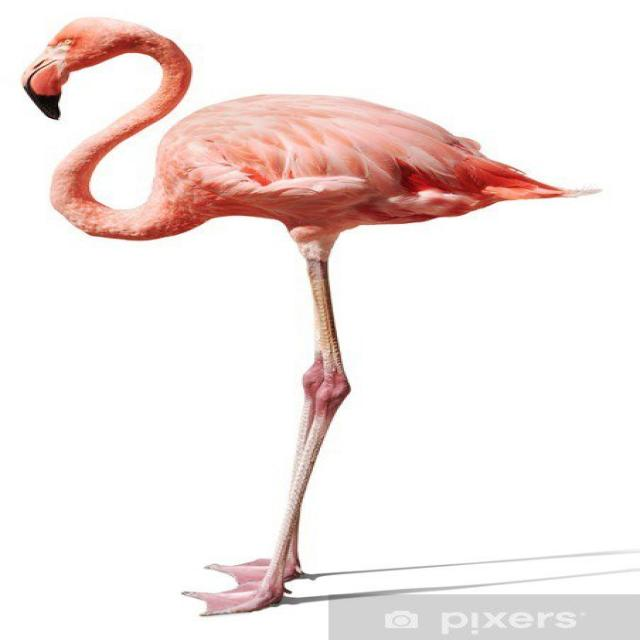Flamingo: (19, 11, 591, 613)
